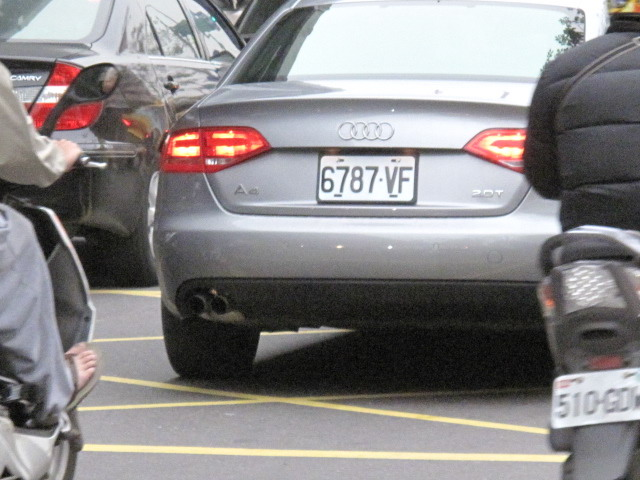plate: (316, 152, 418, 207), (552, 364, 639, 428)
